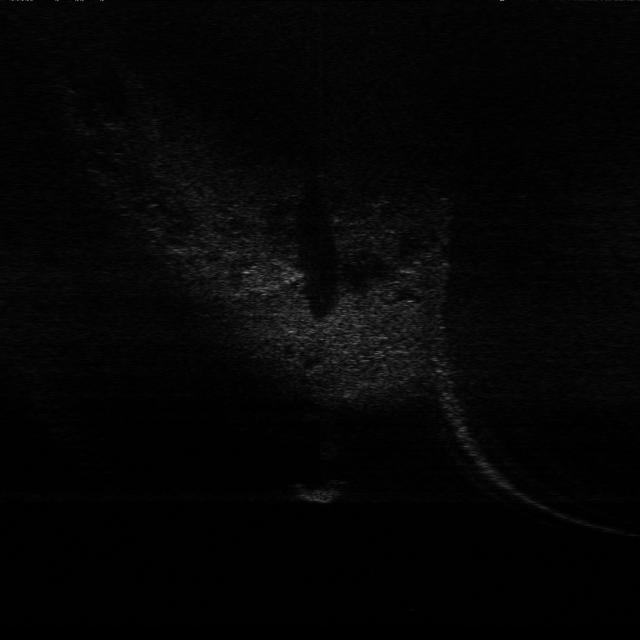square cage: (292, 457, 356, 505)
